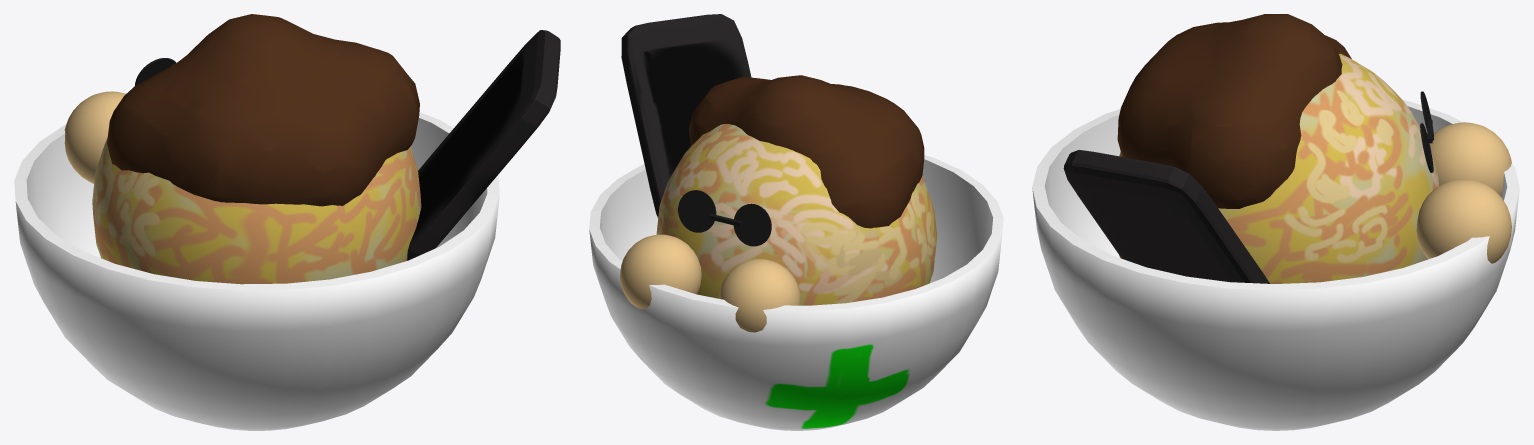
File: chara.glb
3 views of the same model, side by side, from view 1: azimuth 30°, elevation 25°; view 2: azimuth 150°, elevation 25°; view 3: azimuth 270°, elevation 25° (orthographic). The views are drawn at different scales.
Visible parts, largest first — view 1: Sphere, Mball.005, Sphere.001, Cube, Sphere.003; view 2: Sphere, Sphere.001, Mball.005, Cube, Sphere.002, Sphere.003, Cylinder; view 3: Sphere, Mball.005, Sphere.001, Cube, Sphere.002, Sphere.003, Cylinder.
Boxes of the visible parts, x1,y1,x2,y2 form: Sphere: (14,112,499,430); Mball.005: (107,14,419,206); Sphere.001: (92,62,421,284); Cube: (407,30,560,260); Sphere.003: (64,91,125,183); Sphere: (589,155,1003,430); Sphere.001: (656,124,937,305); Mball.005: (689,75,924,228); Cube: (621,14,751,217); Sphere.002: (620,234,701,308); Sphere.003: (719,259,800,332); Cylinder: (678,190,771,246); Sphere: (1032,100,1519,430); Mball.005: (1117,14,1351,208); Sphere.001: (1119,53,1439,283); Cube: (1063,150,1269,283); Sphere.002: (1416,179,1511,263); Sphere.003: (1429,122,1511,196); Cylinder: (1420,91,1433,172).
Size of the model in its own units: 2.2 by 1.75 by 2.
6 materials, 3 textured.
